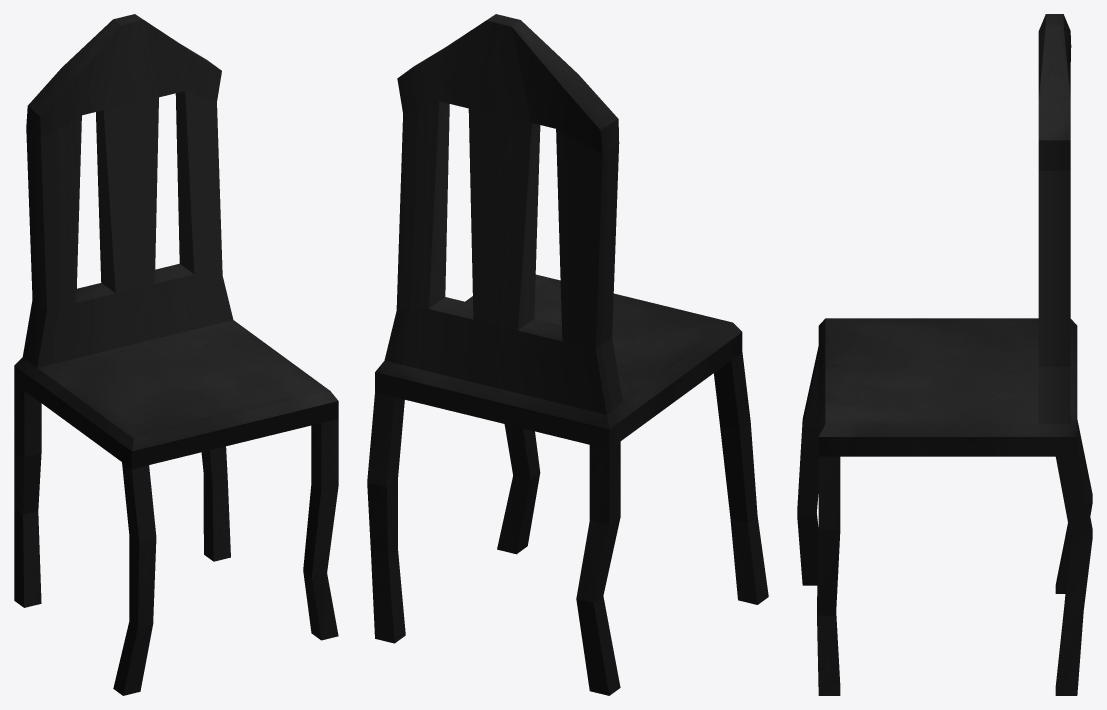
The model's file is Stool_02.fbx.
3 views of the same model, side by side, from view 1: azimuth 30°, elevation 25°; view 2: azimuth 150°, elevation 25°; view 3: azimuth 270°, elevation 25° (orthographic). The views are drawn at different scales.
Visible parts, largest first — view 1: Box001; view 2: Box001; view 3: Box001.
Boxes of the visible parts, box(x1,y1,x2,y2) form: Box001: box(14, 14, 338, 695); Box001: box(367, 14, 768, 695); Box001: box(797, 14, 1092, 695).
Bounding box in the file's own units: 42.35 × 102 × 44.02.
1 material, 1 textured.
